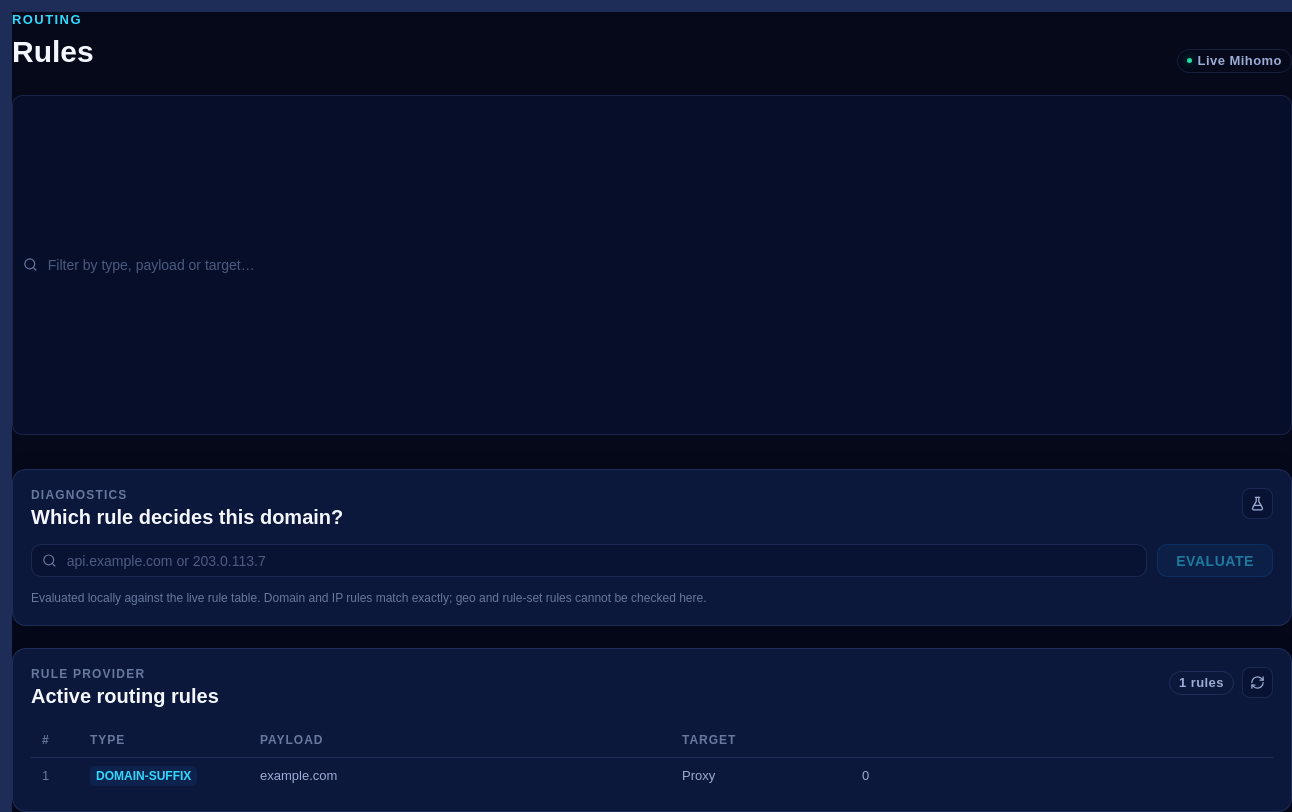
Scenario: real data workspace pages › loads rules from Mihomo and shows its empty state without invented rows
Expected: the text "example.com" is shown, [249,758,671,793]
Expected: the text "DOMAIN-SUFFIX" is shown, [90,766,197,786]
Type "nomatch" into the search field named "Filter rules".
click(663, 265); type("nomatch")  # box [46,249,1281,280]
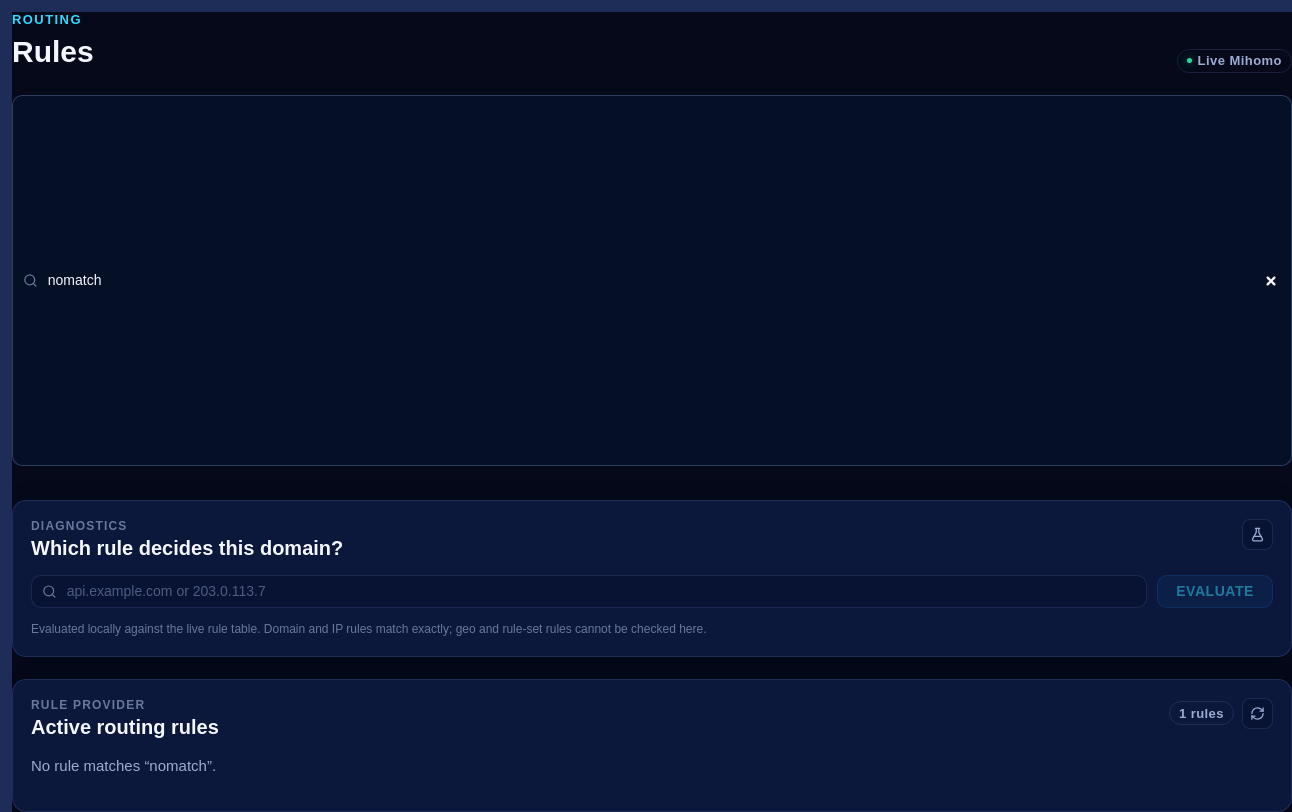
Expected: the text "No rule matches “nomatch”." is shown, [31,757,216,774]
